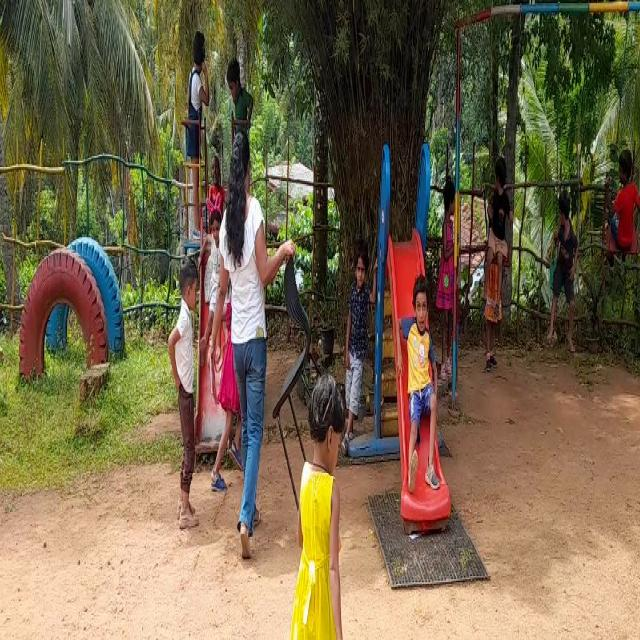adult: (225, 140, 279, 548)
child: (294, 384, 355, 640), (399, 278, 441, 490), (166, 251, 198, 511), (342, 239, 372, 451), (437, 162, 462, 383), (544, 187, 577, 352), (482, 151, 513, 313), (183, 29, 208, 208), (611, 147, 638, 287)
